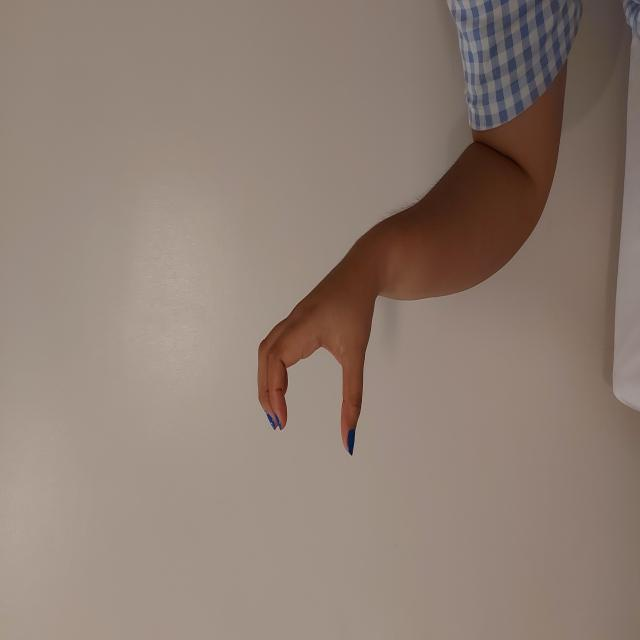C: (184, 256, 397, 375)
